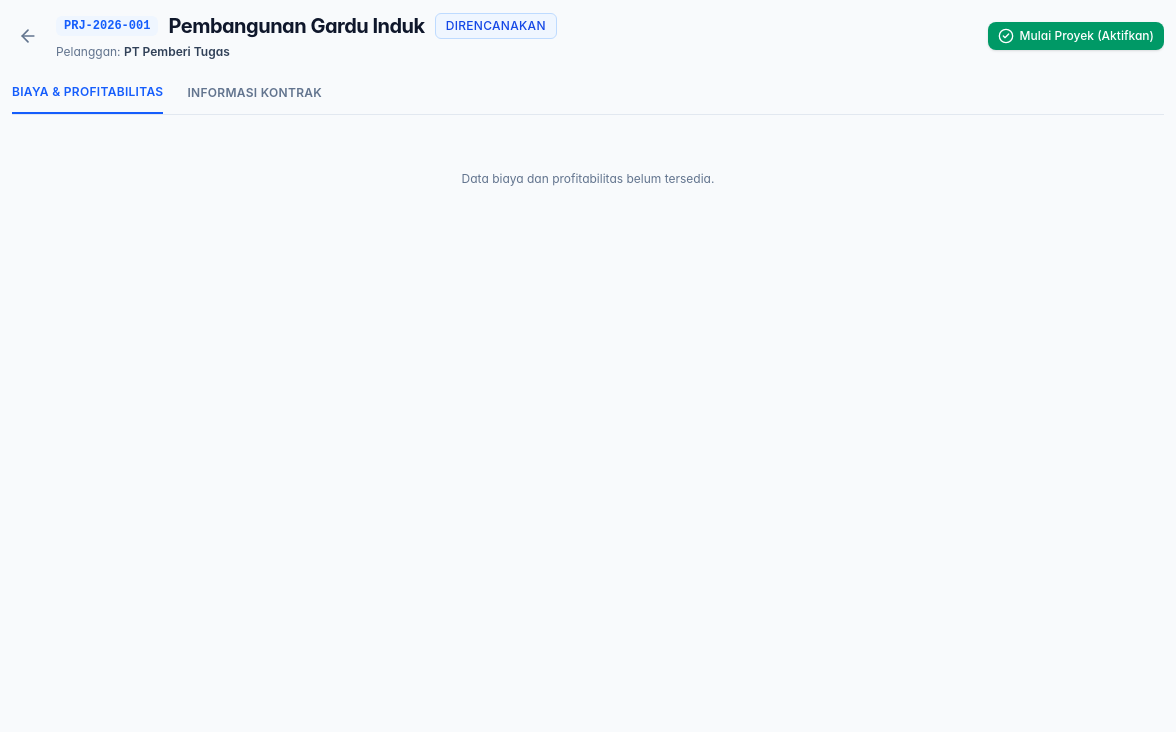
Test: Project Activation Workflow (PRJ-2026-001) › handles structured 422 validation error safely without blanking the page
Expected: the text "PRJ-2026-001" is shown, [56, 16, 158, 36]
Click the button "Mulai Proyek (Aktifkan)".
click(1076, 36)  # box [988, 22, 1164, 50]
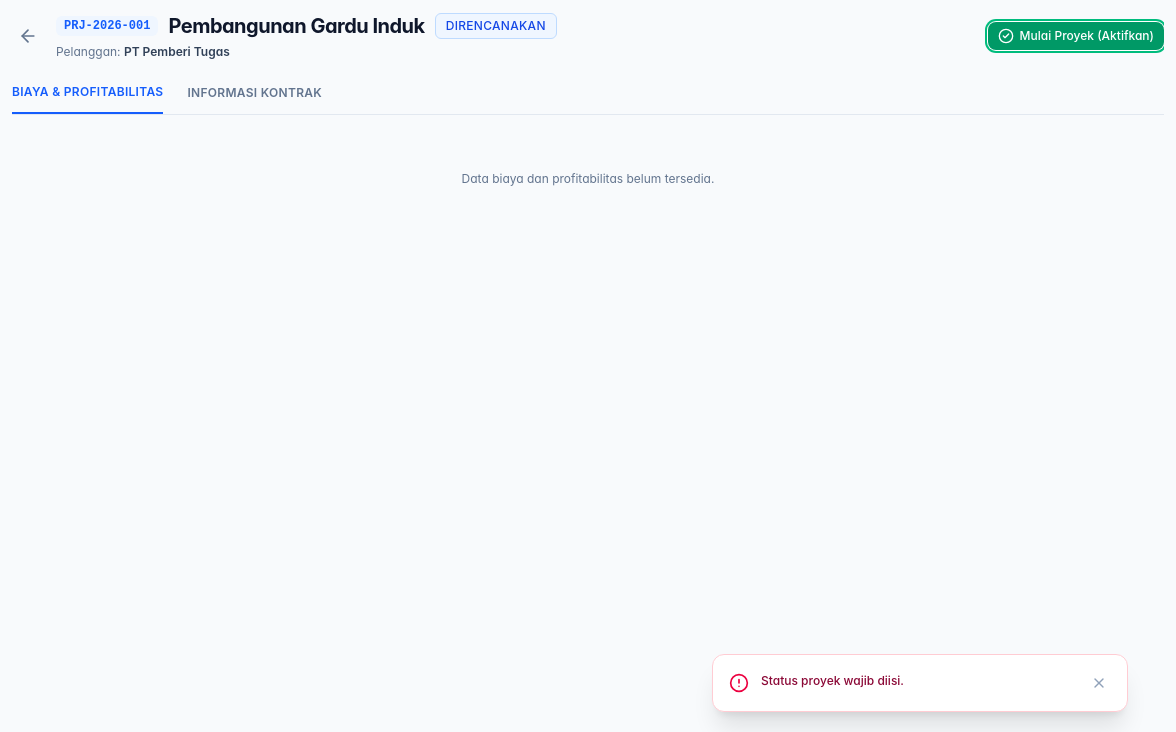
Expected: the text "PRJ-2026-001" is shown, [56, 16, 158, 36]
Expected: the text "Status proyek wajib diisi." is shown, [761, 673, 904, 688]
